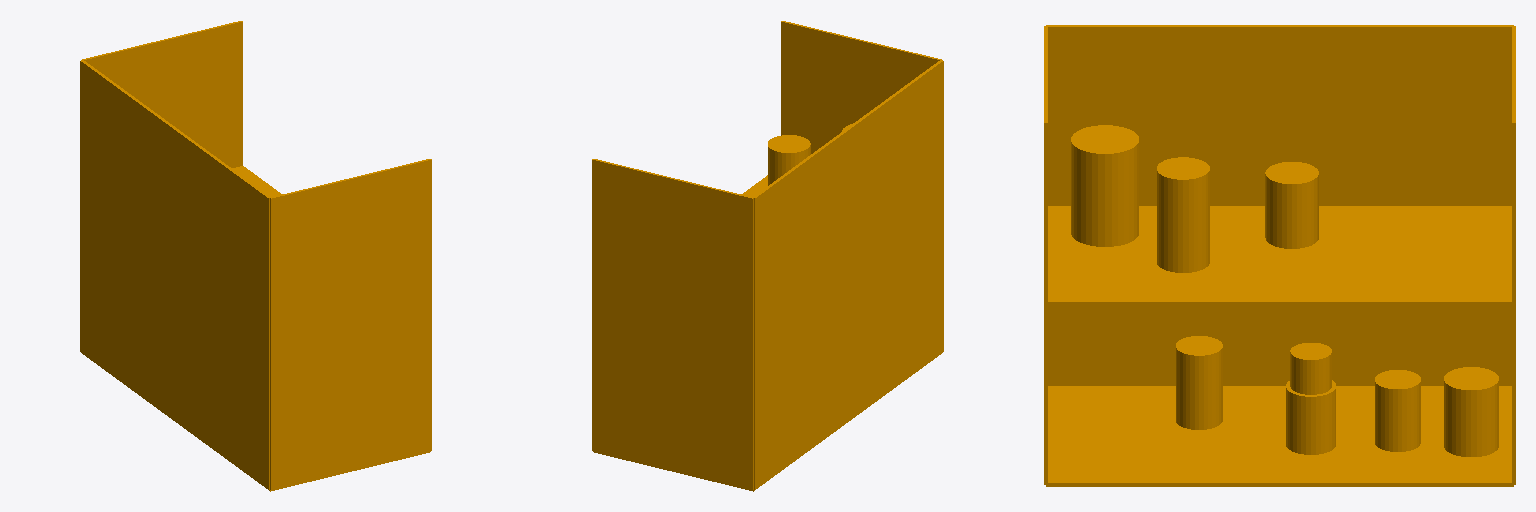
The robot description file, URDF, robot "syn_can_cabinet_2579":
<?xml version="1.0" ?>
<robot name="syn_can_cabinet_2579">
    <link concave="yes" name="base_link">
        <inertial>
            <origin rpy="0 0 0" xyz="0 0 0"/>
            <mass value="0.0"/>
            <inertia ixx="1e-08" ixy="0" ixz="0" iyy="1e-08" iyz="0" izz="1e-08"/>
        </inertial>
        <visual>
            <origin xyz="0 0 0" rpy="0 0 0" />
            <geometry>
                <mesh filename="syn_can_cabinet_2579.obj" scale="1.000000 1.000000 1.000000"/>
            </geometry>         
        </visual>

        <collision concave="yes">
            <origin xyz="0 0 0" rpy="0 0 0"/>
            <geometry>
                <mesh filename="syn_can_cabinet_2579.obj" scale="1.000000 1.000000 1.000000"/>
            </geometry>
        </collision>
    </link>
</robot>
    

--- Render facts (derived) ---
3 views of the same robot in one strip: view 1: azimuth 30°, elevation 25°; view 2: azimuth 150°, elevation 25°; view 3: azimuth 270°, elevation 25° (orthographic).
Model syn_can_cabinet_2579 with 1 links and 0 joints (none), rooted at base_link, posed every joint at zero.
Visible links, largest first — view 1: base_link; view 2: base_link; view 3: base_link.
Link boxes in pixels (x1,y1,x2,y2): base_link: [80, 21, 431, 491]; base_link: [592, 21, 943, 491]; base_link: [1044, 25, 1515, 486].
Size in the robot's own frame: 0.2183 by 0.443 by 0.3771 metres.
Meshes: 1 distinct files referenced, 1 mesh visuals loaded (1 OBJ).
